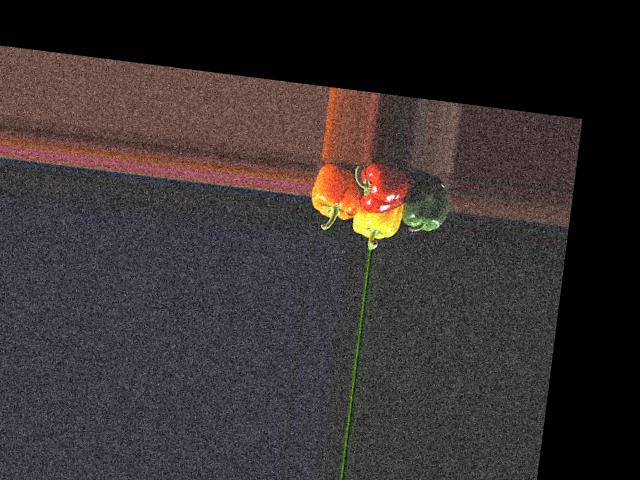bell_pepper: (307, 153, 366, 228)
